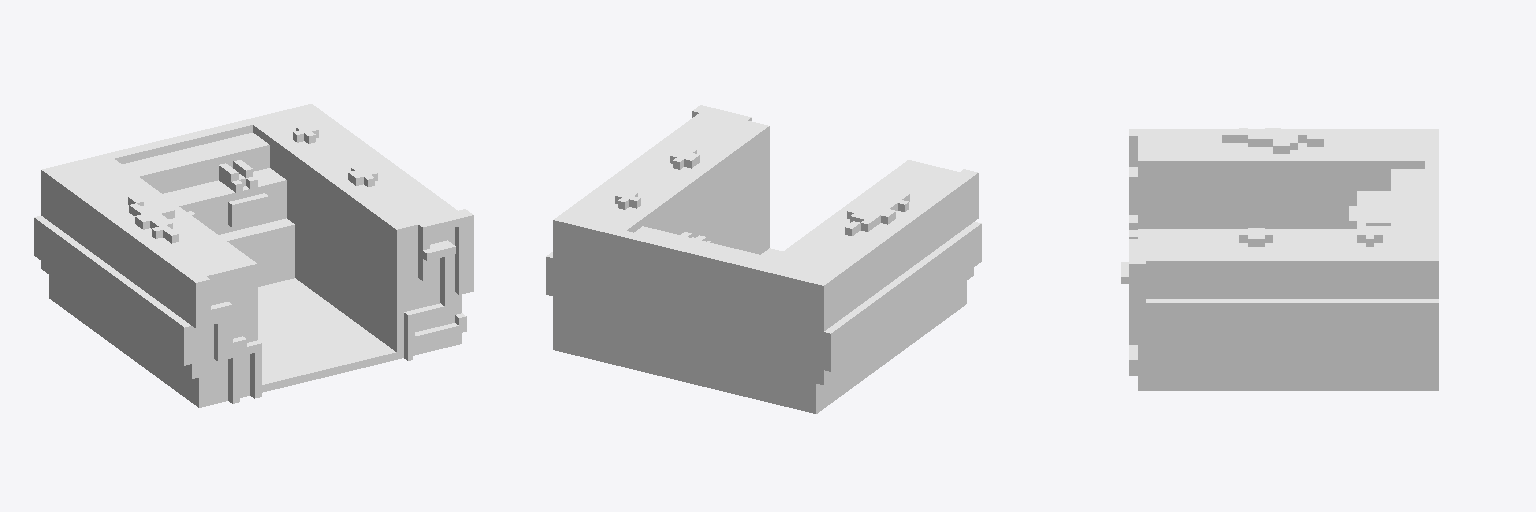
Rendered from Vodopad.obj.
3 renders of one model, left to right at view 1: azimuth 30°, elevation 25°; view 2: azimuth 150°, elevation 25°; view 3: azimuth 270°, elevation 25°, orthographic.
Parts seen in each view (by area): view 1: object 1; view 2: object 1; view 3: object 1.
Part boxes in pixels (left/top/right/bottom): object 1: left=34, top=104, right=473, bottom=407; object 1: left=546, top=105, right=981, bottom=413; object 1: left=1121, top=128, right=1438, bottom=390.
Bounding box in the file's own units: 23.4 × 10.8 × 22.6.